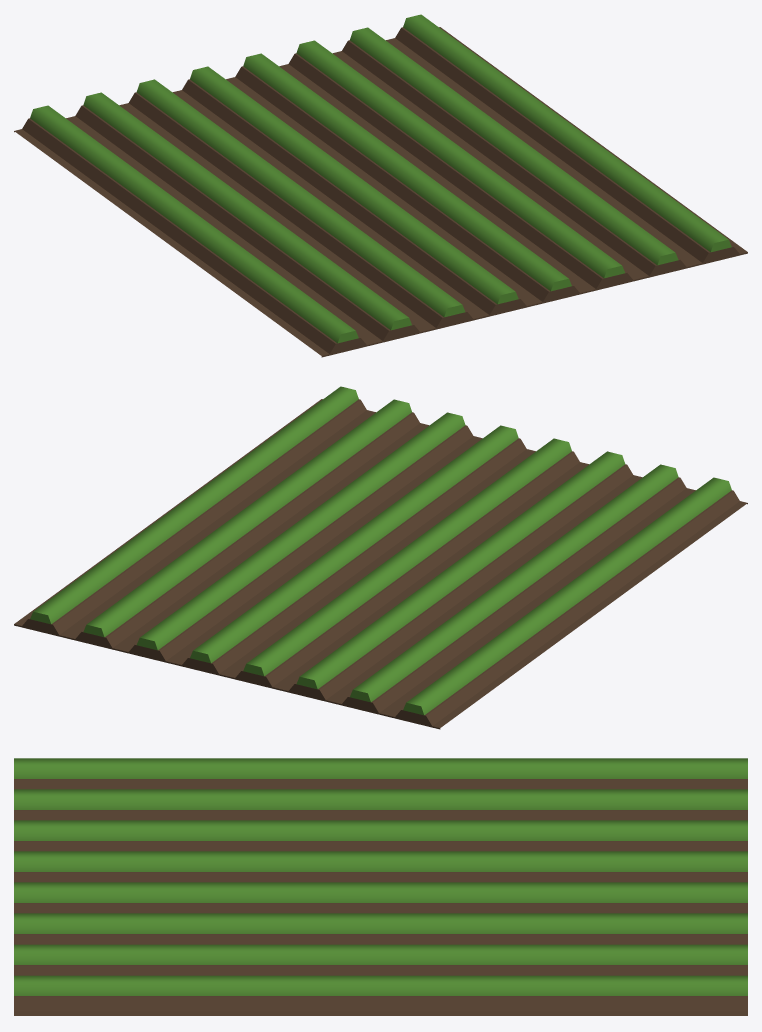
File: tile.fbx
The picture shows the model from 3 angles, top to bottom: view 1: azimuth 30°, elevation 25°; view 2: azimuth 150°, elevation 25°; view 3: azimuth 270°, elevation 25°; orthographic projection. The views are drawn at different scales.
Visible parts, largest first — view 1: a1002/0/tile; view 2: a1002/0/tile; view 3: a1002/0/tile.
Boxes of the visible parts, x1,y1,x2,y2 form: a1002/0/tile: (14, 14, 747, 357); a1002/0/tile: (14, 386, 747, 729); a1002/0/tile: (14, 758, 747, 1015).
Bounding box in the file's own units: 9.6 × 0.4 × 12.
